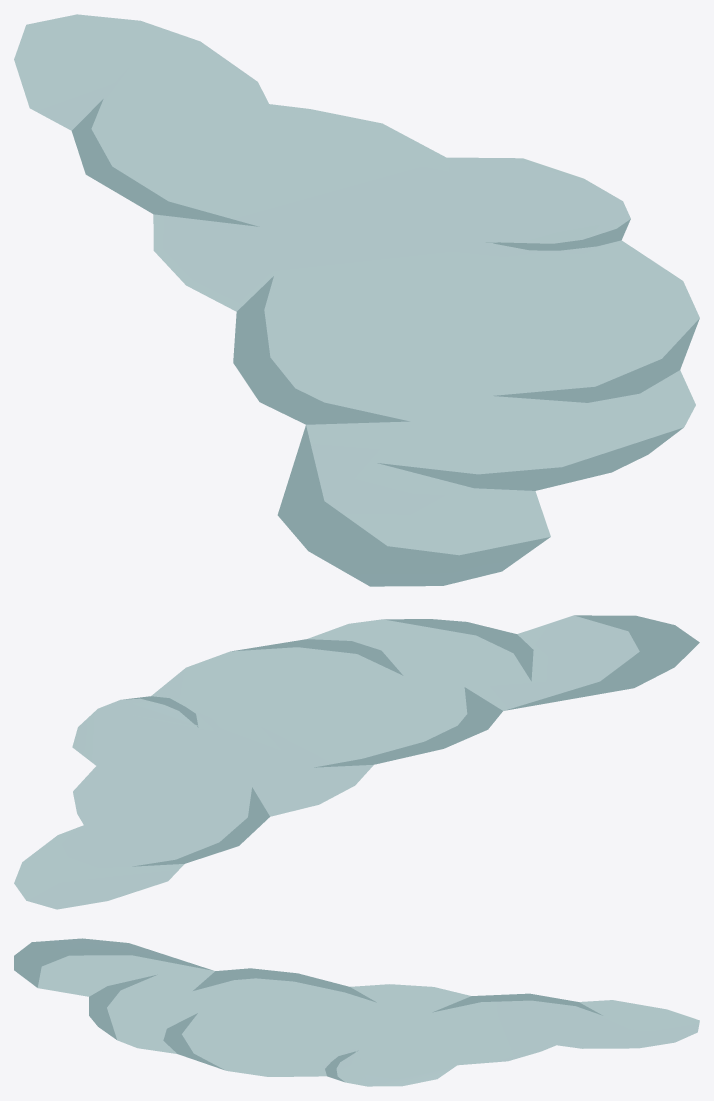
Rendered from Cloud_02.fbx.
3 views of the same model, one above another, from view 1: azimuth 30°, elevation 25°; view 2: azimuth 150°, elevation 25°; view 3: azimuth 270°, elevation 25° (orthographic). The views are drawn at different scales.
Visible parts, largest first — view 1: Cloud_02; view 2: Cloud_02; view 3: Cloud_02.
Part boxes in pixels (x1=…): Cloud_02: x1=14, y1=14, x2=699, y2=586; Cloud_02: x1=14, y1=615, x2=699, y2=909; Cloud_02: x1=14, y1=938, x2=699, y2=1086.
Size of the model in its own units: 209 by 1.43 by 413.
Materials: 1 (1 with a texture image).
